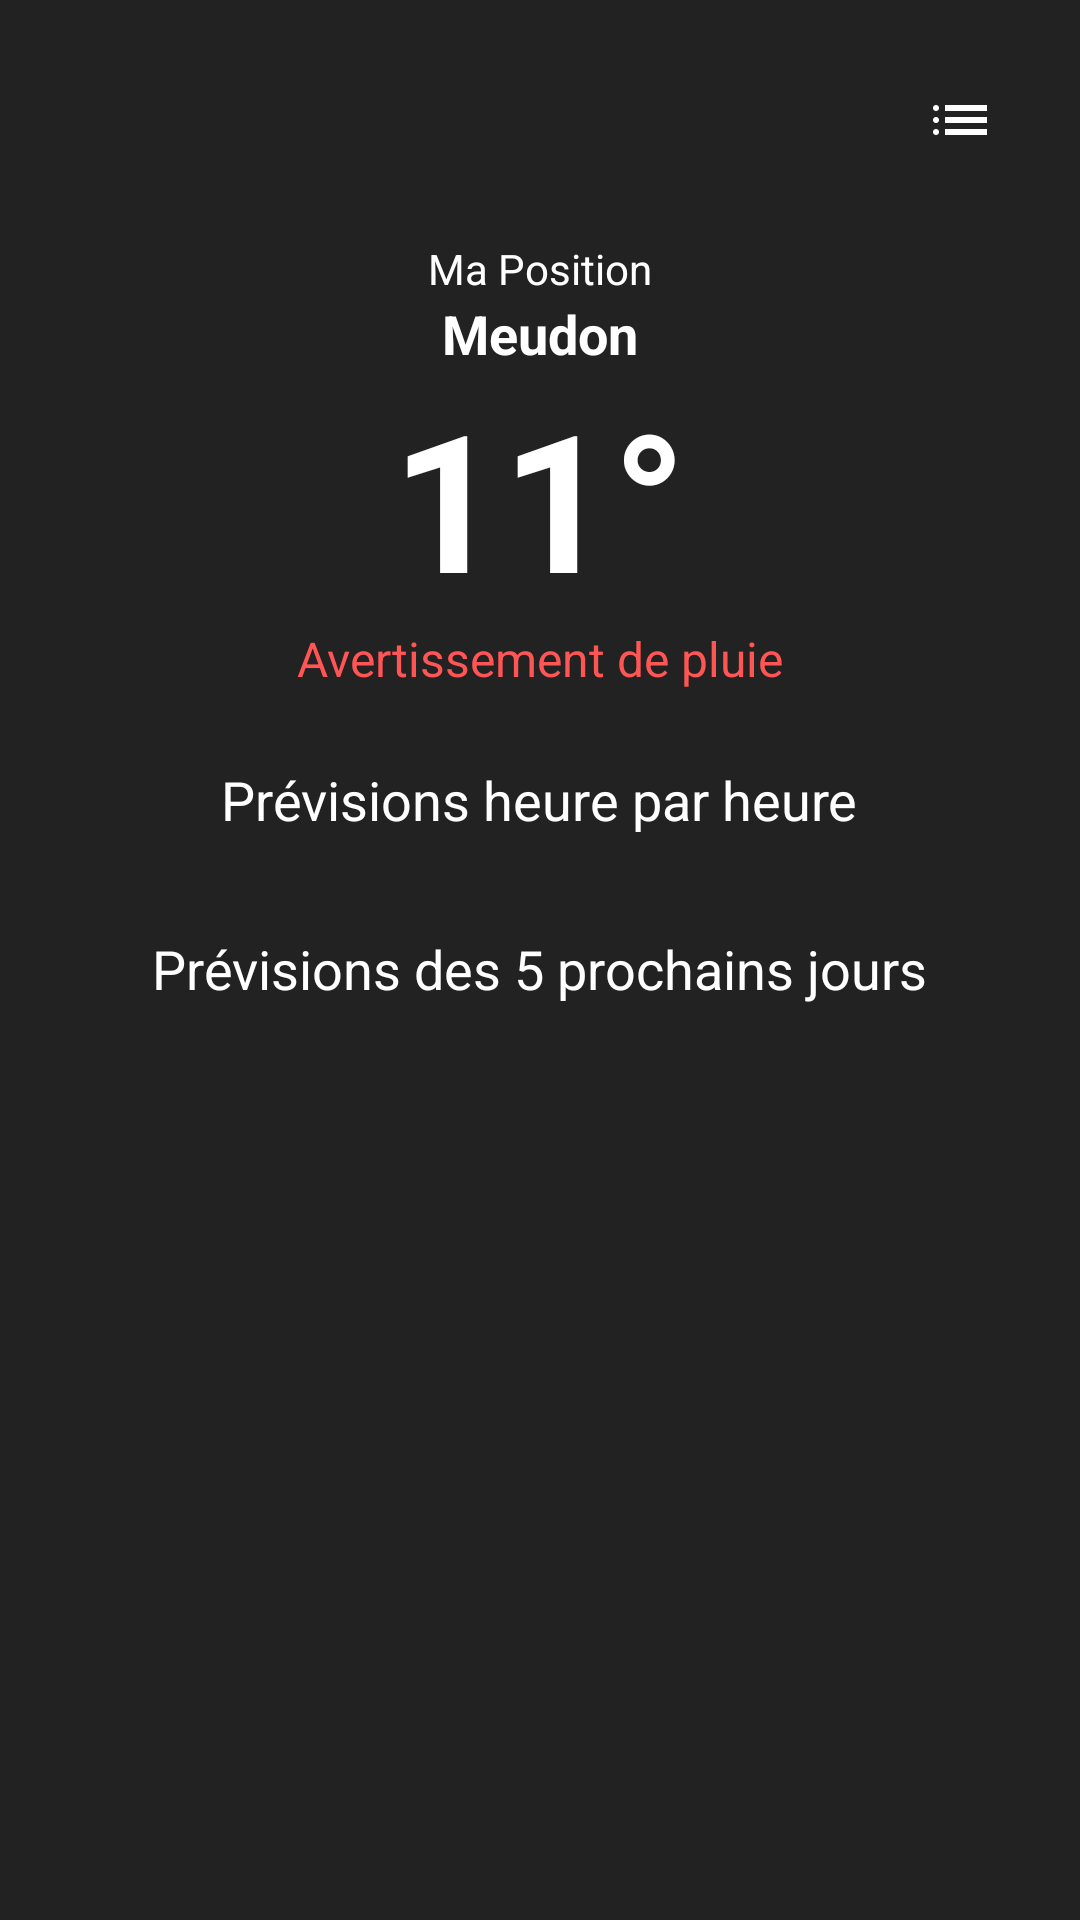

Screen size 1080 x 1920. Icon name, then its box in pixels as {"x1": x1, "y1": y1, "x2": x2, "y2": y2}:
Liste des villes: {"x1": 933, "y1": 105, "x2": 987, "y2": 135}
